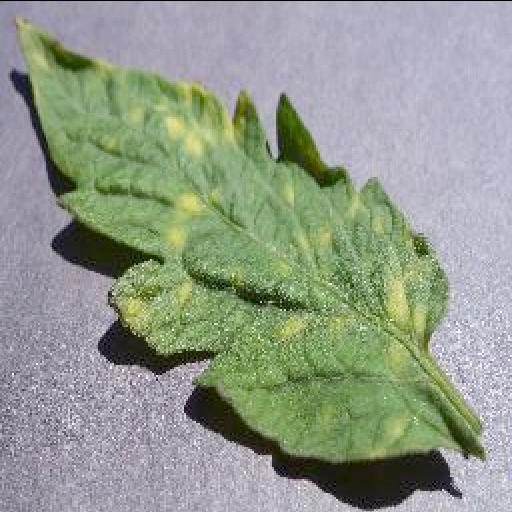disease_tomato: (18, 16, 450, 464)
